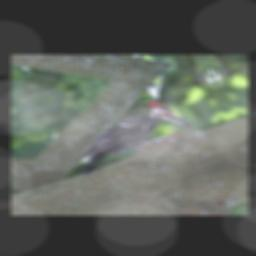Woodpecker: (58, 93, 197, 178)
